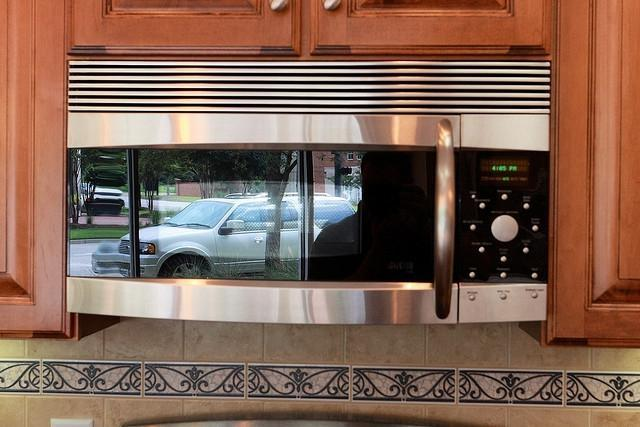car: (114, 194, 300, 277), (83, 191, 126, 211)
